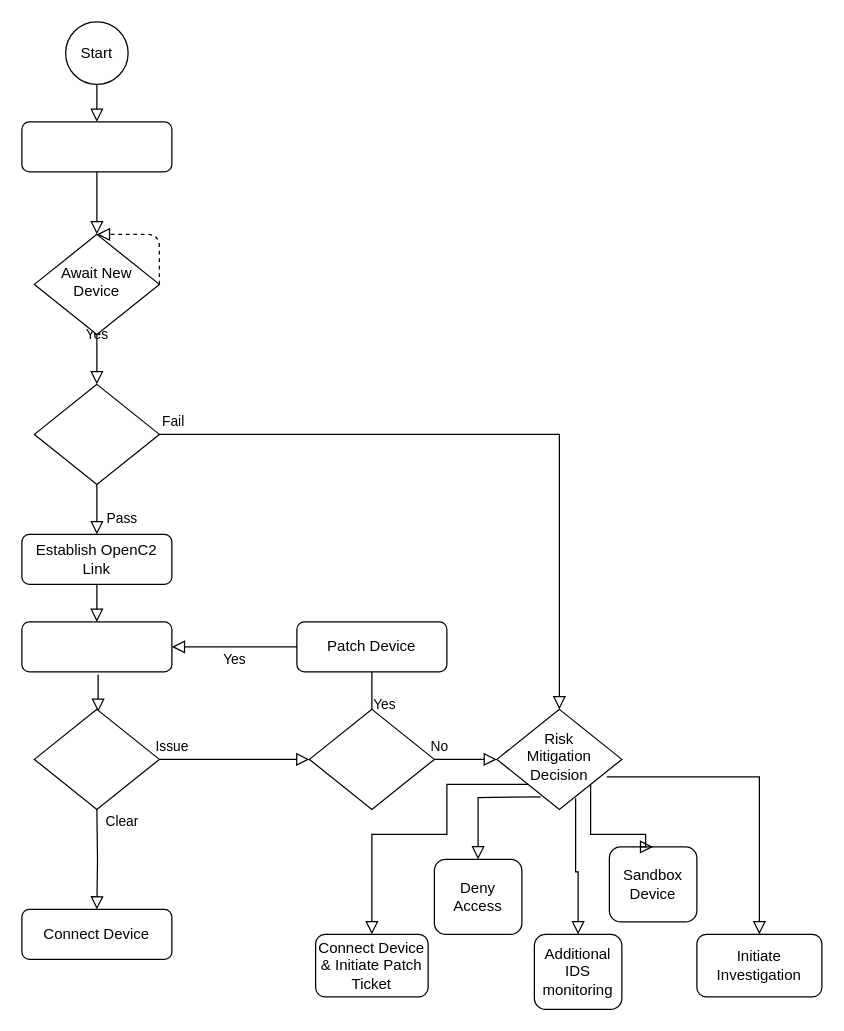
Image size: 844x1031. Some labels were removed from this diagram. Each missing label, with the box of its shape:
Analyze Vulnerabilty /License: (33, 708, 159, 809)
Obtain current SBOM: (21, 621, 172, 672)
Patchable: (308, 708, 434, 809)
PreConnect Tests: (33, 383, 159, 484)
Setup: (21, 121, 172, 172)
